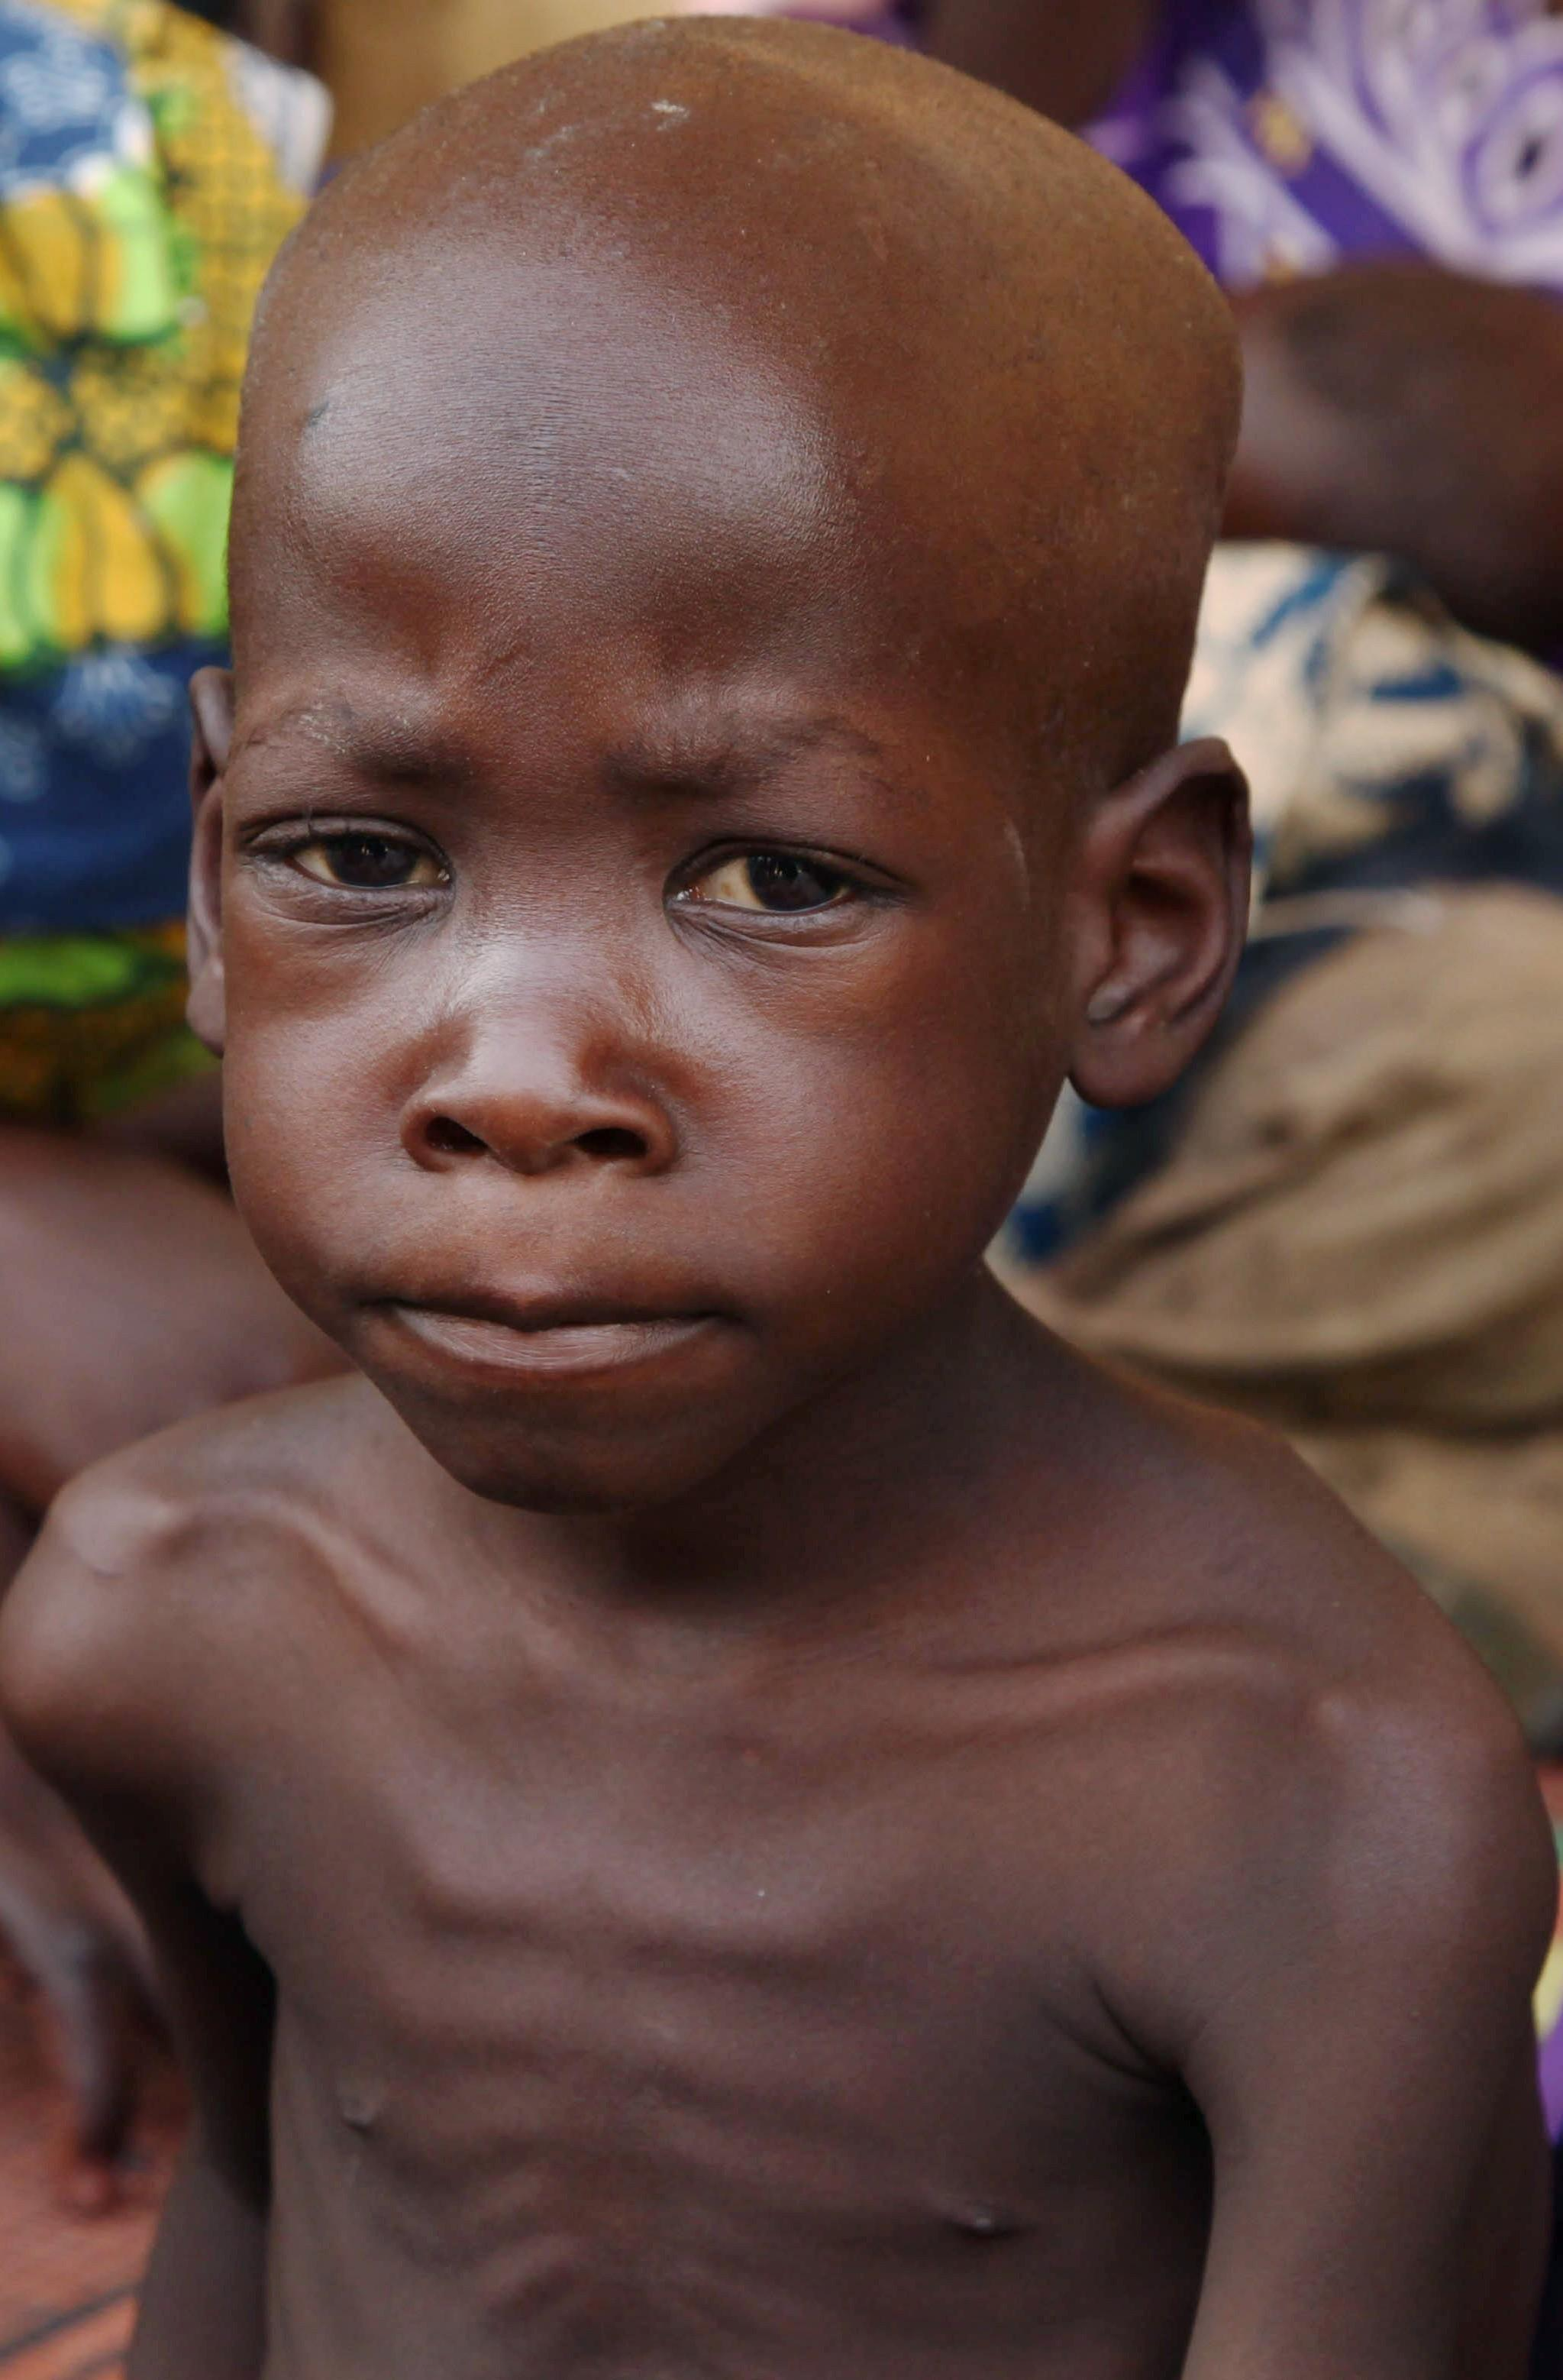Stunting: (0, 0, 1244, 1558)
